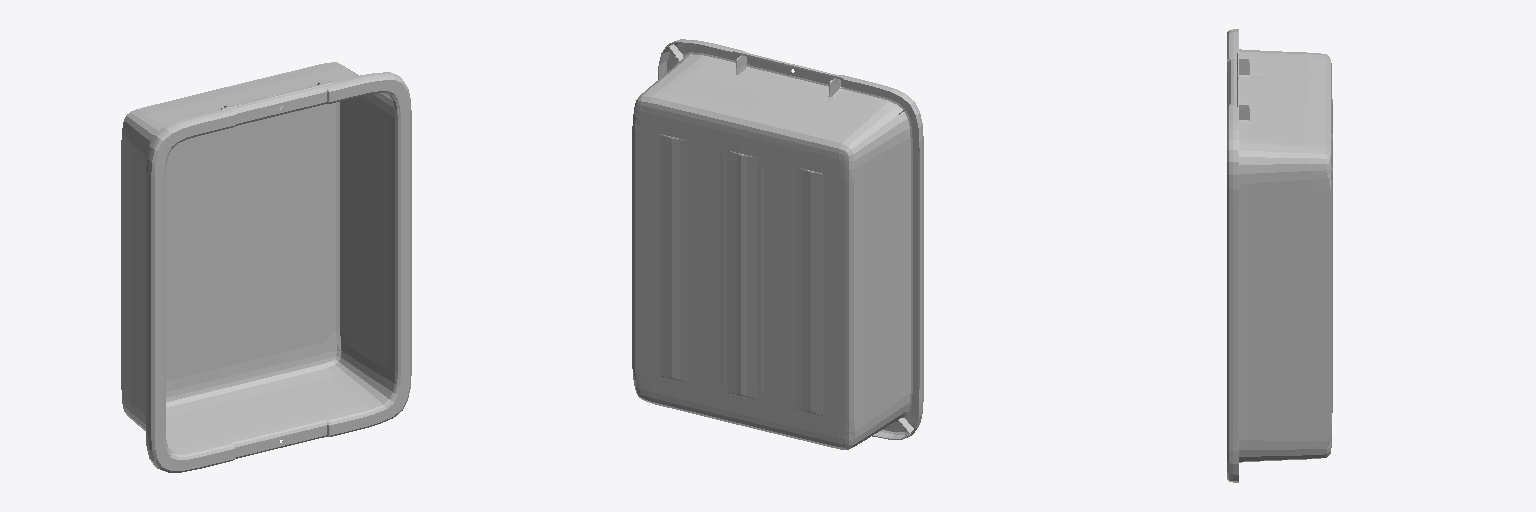
Rendered from real-bin.obj.
3 views of the same model, side by side, from view 1: azimuth 30°, elevation 25°; view 2: azimuth 150°, elevation 25°; view 3: azimuth 270°, elevation 25° (orthographic).
Visible parts, largest first — view 1: ToteA.L_mesh_id5; view 2: ToteA.L_mesh_id5; view 3: ToteA.L_mesh_id5.
Part boxes in pixels (x1,y1,x2,y2): ToteA.L_mesh_id5: (121,62,411,472); ToteA.L_mesh_id5: (632,39,923,449); ToteA.L_mesh_id5: (1227,29,1332,482).
Bounding box in the file's own units: 0.3354 × 0.4317 × 0.1179.